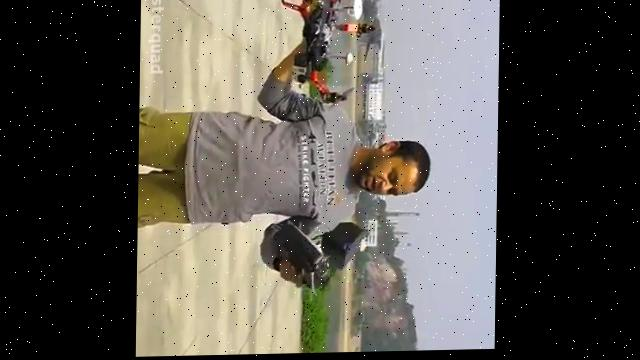drone: (276, 0, 379, 116)
